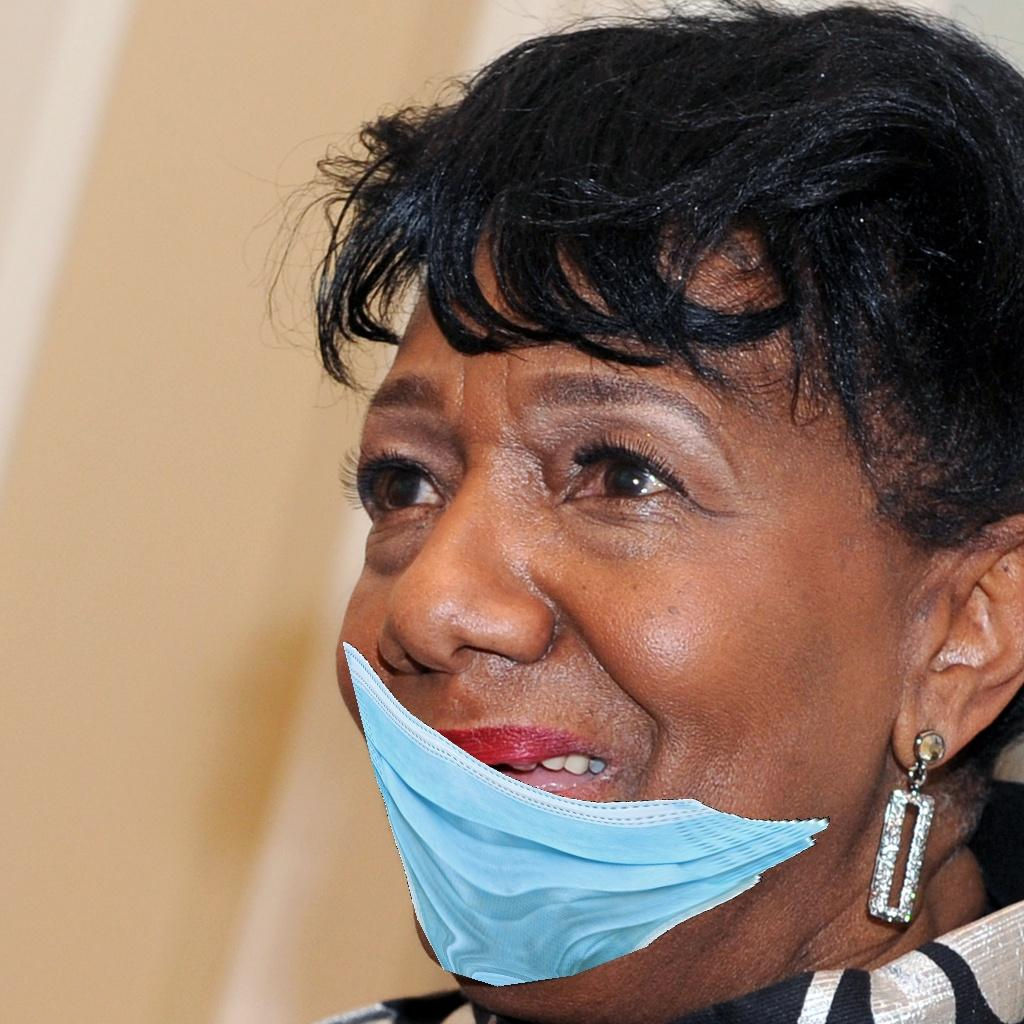Máscara Incorreta: (322, 350, 942, 981)
